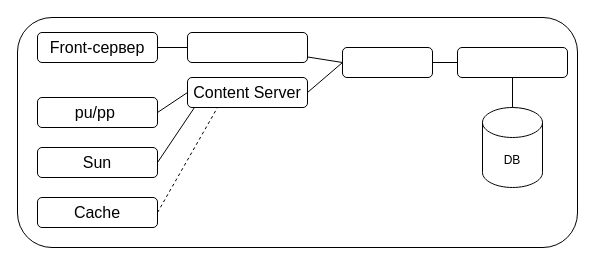
This 595x265 diagram has some shape labels left out. Here are the shapes that lost their labels. From the top down, the centre of each, then its label:
point 247,47: Backend
point 387,62: proxy
point 512,62: Engines
